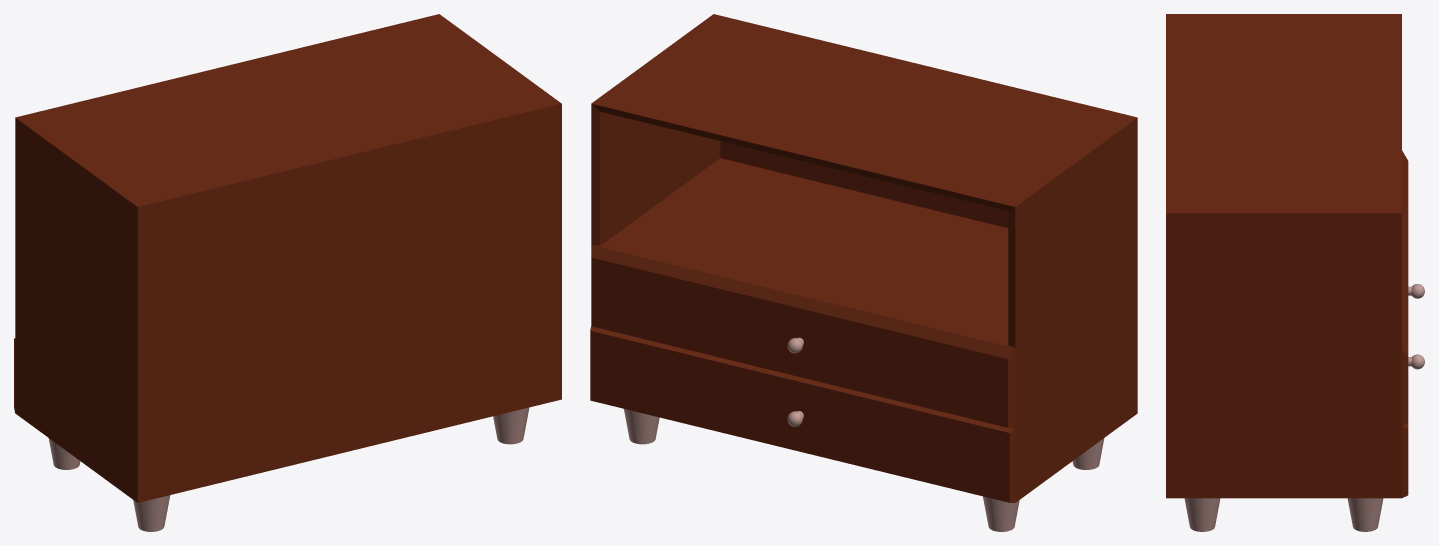
Rendered from Kommode_gross.fbx.
3 views of the same model, side by side, from view 1: azimuth 30°, elevation 25°; view 2: azimuth 150°, elevation 25°; view 3: azimuth 270°, elevation 25° (orthographic). The views are drawn at different scales.
Visible parts, largest first — view 1: polySurface1; view 2: polySurface1; view 3: polySurface1.
Boxes of the visible parts, x1,y1,x2,y2 form: polySurface1: [14, 14, 561, 531]; polySurface1: [590, 14, 1137, 531]; polySurface1: [1166, 14, 1424, 531].
Size of the model in its own units: 223 by 171 by 122.
